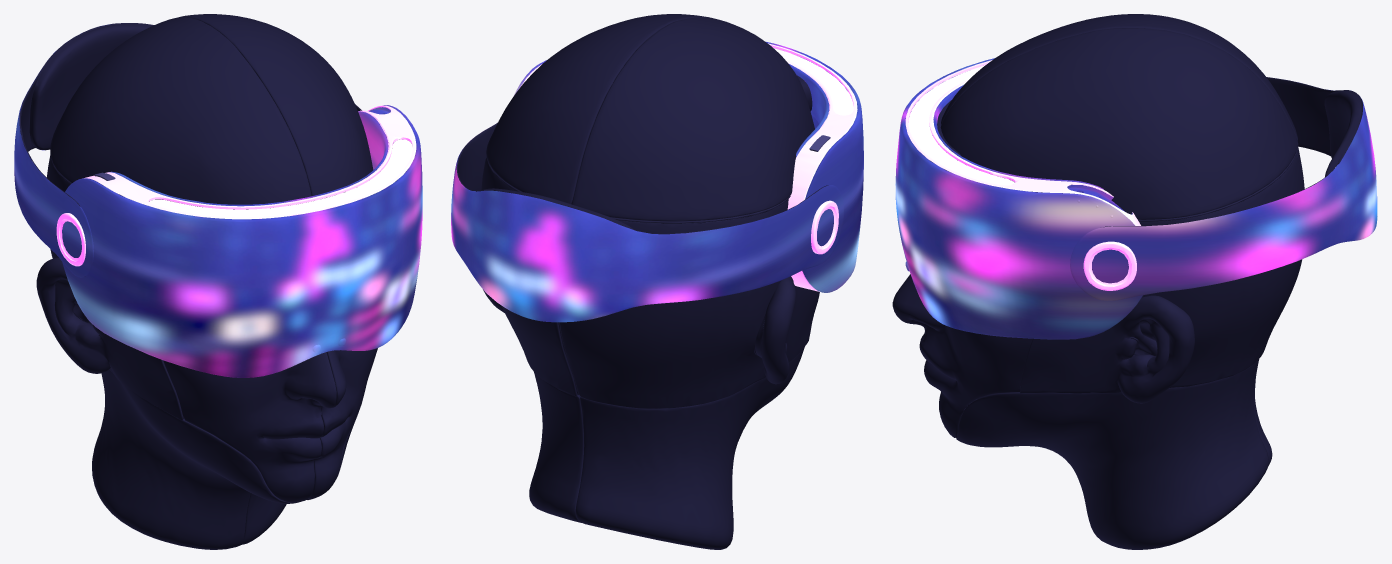
Rendered from head.glb.
3 renders of one model, left to right at view 1: azimuth 30°, elevation 25°; view 2: azimuth 150°, elevation 25°; view 3: azimuth 270°, elevation 25°, orthographic.
Visible parts, largest first — view 1: HEAD, glasses_city, back, purple, white; view 2: HEAD, glasses_city, purple, back, white; view 3: HEAD, glasses_city, back, purple, white.
Part boxes in pixels (x1,y1,x2,y2): HEAD: [36, 14, 377, 549]; glasses_city: [14, 24, 422, 377]; back: [19, 23, 396, 257]; purple: [56, 105, 416, 266]; white: [149, 139, 412, 217]; HEAD: [481, 14, 819, 549]; glasses_city: [451, 41, 863, 322]; purple: [521, 43, 857, 291]; back: [456, 75, 833, 245]; white: [773, 48, 853, 115]; HEAD: [892, 14, 1304, 549]; glasses_city: [895, 58, 1377, 339]; back: [937, 77, 1363, 269]; purple: [905, 60, 1140, 290]; white: [908, 65, 1014, 185].
Size of the model in its own units: 454 by 692 by 602.
6 materials, 4 textured.
